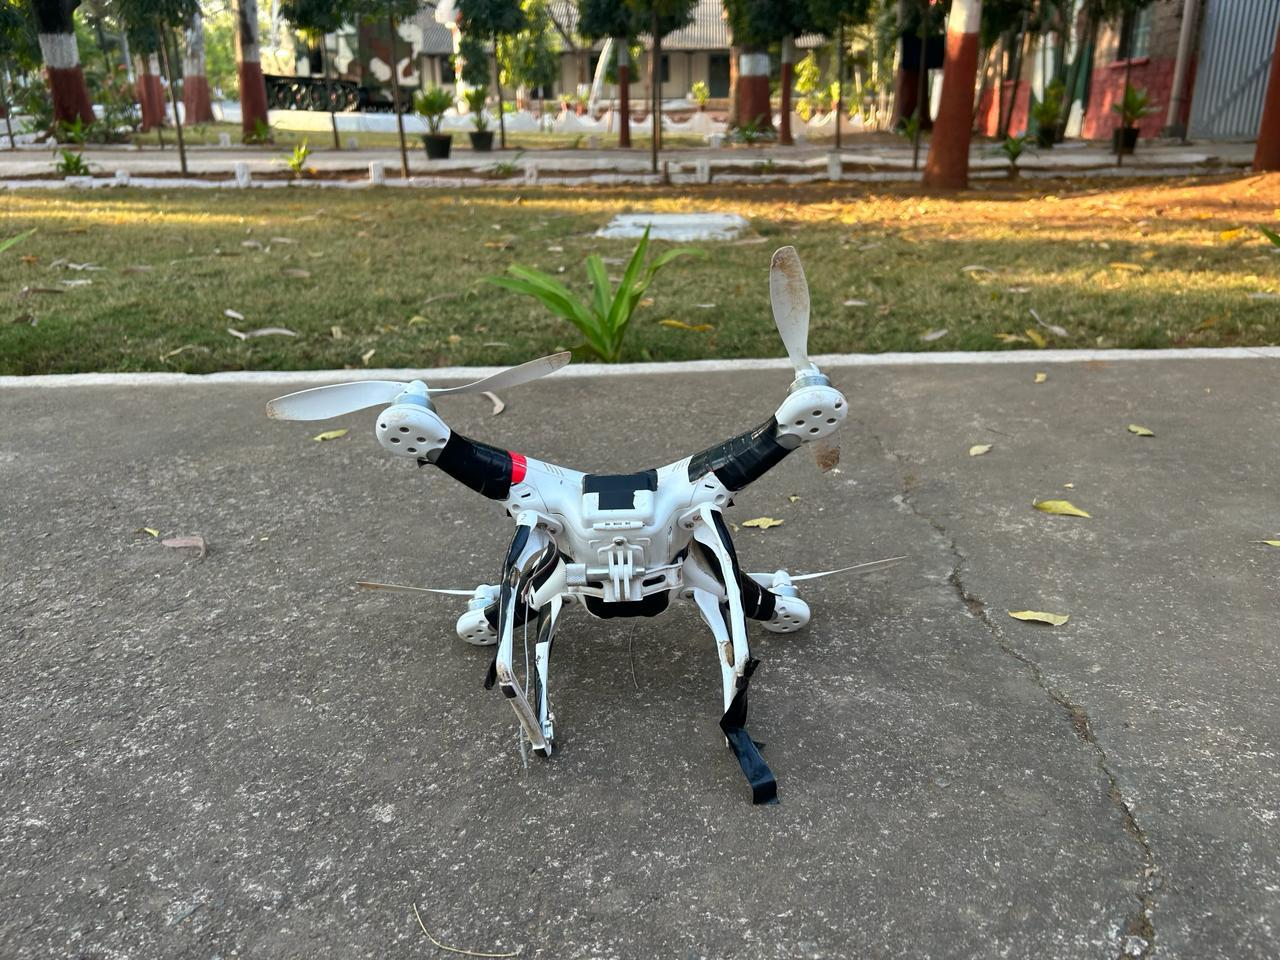drone: (219, 244, 1017, 874)
